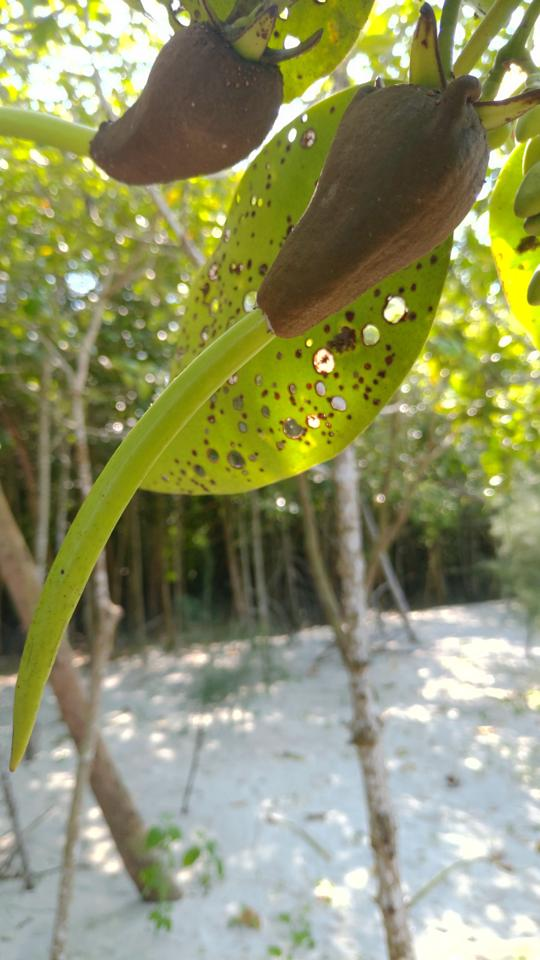mentah: (1, 45, 508, 785)
